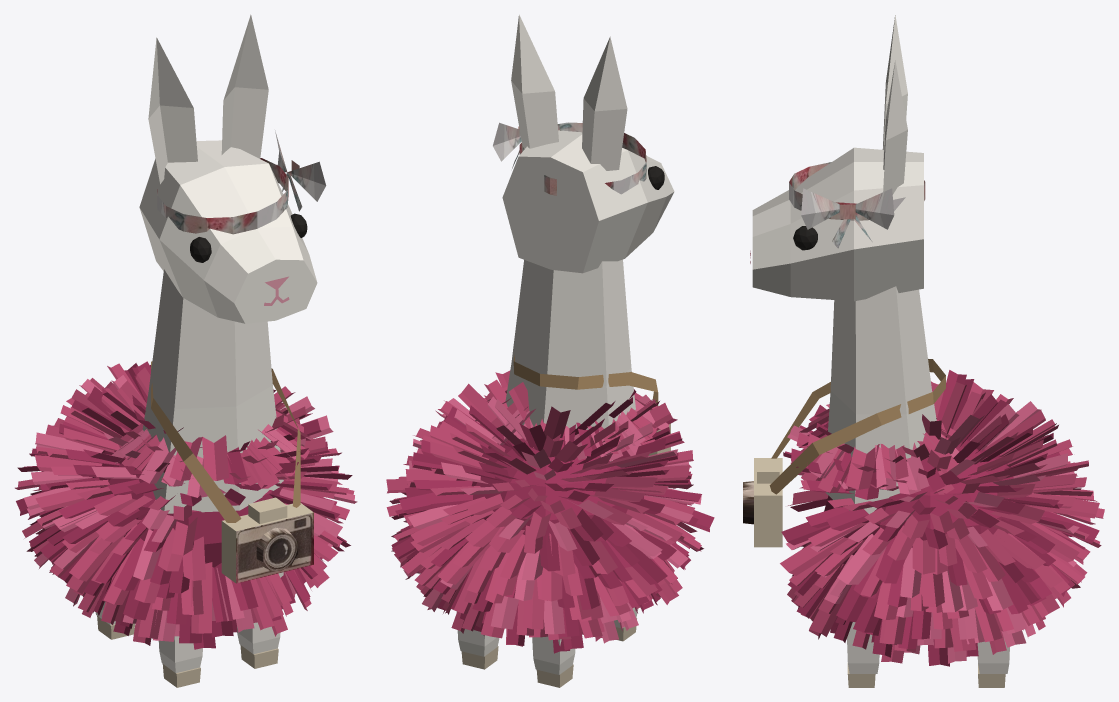
File: llama.glb
3 renders of one model, left to right at view 1: azimuth 30°, elevation 25°; view 2: azimuth 150°, elevation 25°; view 3: azimuth 270°, elevation 25°, orthographic. The views are drawn at different scales.
Visible parts, largest first — view 1: body, head, neck, camera, ear_R, ear_L, band, leg_FL, leg_FR; view 2: body, head, neck, ear_L, ear_R, band, camera, leg_BL, leg_BR; view 3: body, head, neck, camera, band, ear_R, leg_FR, leg_BR, ear_L.
Boxes of the visible parts, x1,y1,x2,y2 form: body: (15, 361, 357, 649); head: (139, 140, 317, 323); neck: (142, 269, 283, 513); camera: (151, 361, 313, 583); ear_R: (221, 14, 268, 158); ear_L: (148, 37, 197, 184); band: (157, 130, 326, 234); leg_FL: (158, 636, 202, 687); leg_FR: (237, 572, 283, 668); body: (386, 370, 714, 653); head: (502, 130, 674, 273); neck: (505, 259, 635, 461); ear_L: (582, 36, 627, 170); ear_R: (511, 14, 558, 148); band: (493, 122, 646, 195); camera: (513, 355, 670, 455); leg_BL: (532, 635, 575, 687); leg_BR: (456, 611, 499, 669); body: (780, 370, 1104, 666); head: (750, 147, 923, 301); neck: (825, 286, 936, 514); camera: (743, 359, 945, 547); band: (789, 162, 925, 248); ear_R: (883, 60, 907, 194); leg_FR: (847, 622, 879, 687); leg_BR: (977, 639, 1009, 687); ear_L: (882, 15, 907, 158).
Bounding box in the file's own units: 0.1045 × 0.218 × 0.1141.
12 materials, 2 textured.
